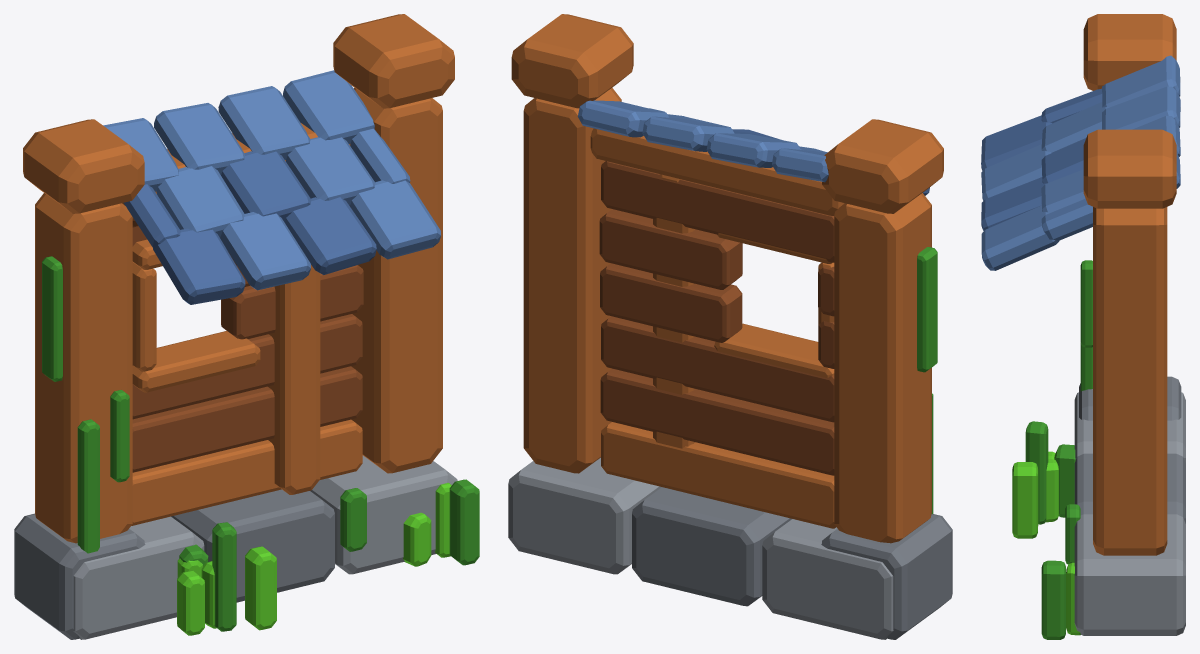
Rendered from DrownedVillage_House_Facade.glb.
3 views of the same model, side by side, from view 1: azimuth 30°, elevation 25°; view 2: azimuth 150°, elevation 25°; view 3: azimuth 270°, elevation 25° (orthographic). The views are drawn at different scales.
Parts seen in each view (by area): view 1: post_01, post_02, stud_01, plank_02, plank_01, stone_base_01, stone_base_02, post_cap_01, post_cap_02, stone_base_03, post_footing_01, plank_03 (+27 smaller); view 2: post_01, post_02, stone_base_02, plank_02, plank_01, stone_base_03, stone_base_01, plank_03, plank_08, post_cap_02, post_cap_01, top_beam_01 (+12 smaller); view 3: post_02, stone_base_03, post_cap_02, post_cap_01, slate_tile_13, stone_base_02, slate_tile_02, slate_tile_01, reed_05, slate_tile_11, reed_09, slate_tile_10 (+16 smaller).
Boxes of the visible parts, x1,y1,x2,y2 form: post_01: (35,193,132,543); post_02: (351,88,442,473); stud_01: (268,265,320,494); plank_02: (132,366,362,472); plank_01: (131,419,362,525); stone_base_01: (73,516,204,639); stone_base_02: (171,489,334,602); post_cap_01: (23,119,144,213); post_cap_02: (333,14,454,108); stone_base_03: (310,455,457,574); post_footing_01: (14,513,145,639); plank_03: (132,314,362,419); post_01: (834,193,931,543); post_02: (523,87,621,473); stone_base_02: (632,487,791,606); plank_02: (600,368,834,475); plank_01: (601,422,835,528); stone_base_03: (508,457,661,574); stone_base_01: (762,519,893,639); plank_03: (601,316,834,422); plank_08: (601,161,834,262); post_cap_02: (511,14,633,108); post_cap_01: (822,119,943,213); top_beam_01: (590,128,844,215); post_02: (1093,207,1167,555); stone_base_03: (1074,514,1185,635); post_cap_02: (1083,129,1176,208); post_cap_01: (1083,14,1176,90); slate_tile_13: (981,205,1059,270); stone_base_02: (1074,453,1185,523); slate_tile_02: (1102,86,1180,129); slate_tile_01: (1102,55,1180,107); reed_05: (1012,462,1038,538); slate_tile_11: (981,144,1051,200); reed_09: (1041,560,1065,639); slate_tile_10: (981,115,1051,170).
Bounding box in the file's own units: 2.83 × 3.43 × 1.32.
